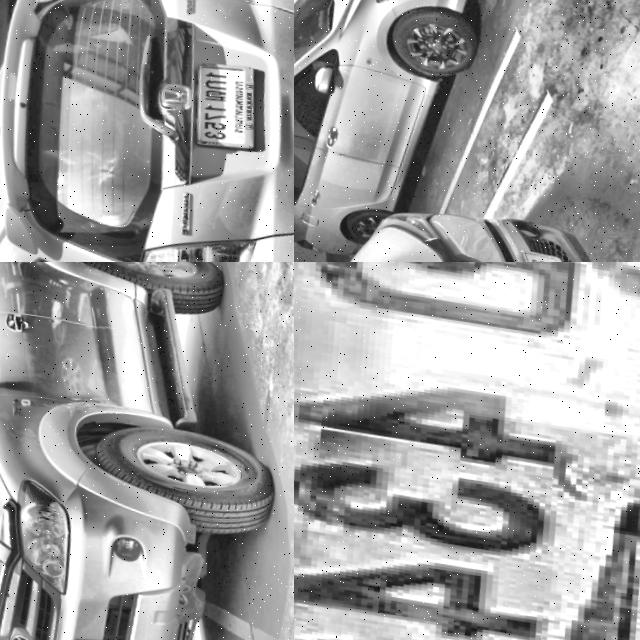license-plate: (294, 262, 640, 640), (172, 52, 271, 157), (510, 247, 591, 262)
